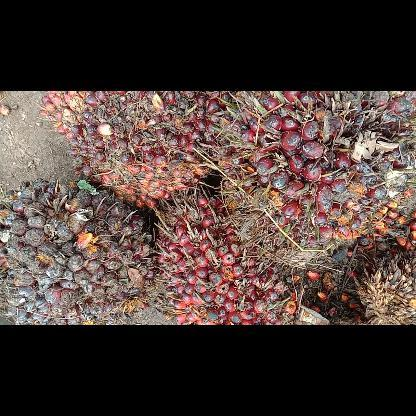Kurang masak: (0, 176, 157, 325)
TBS masak: (218, 90, 414, 270), (38, 90, 248, 209), (149, 192, 305, 324)
